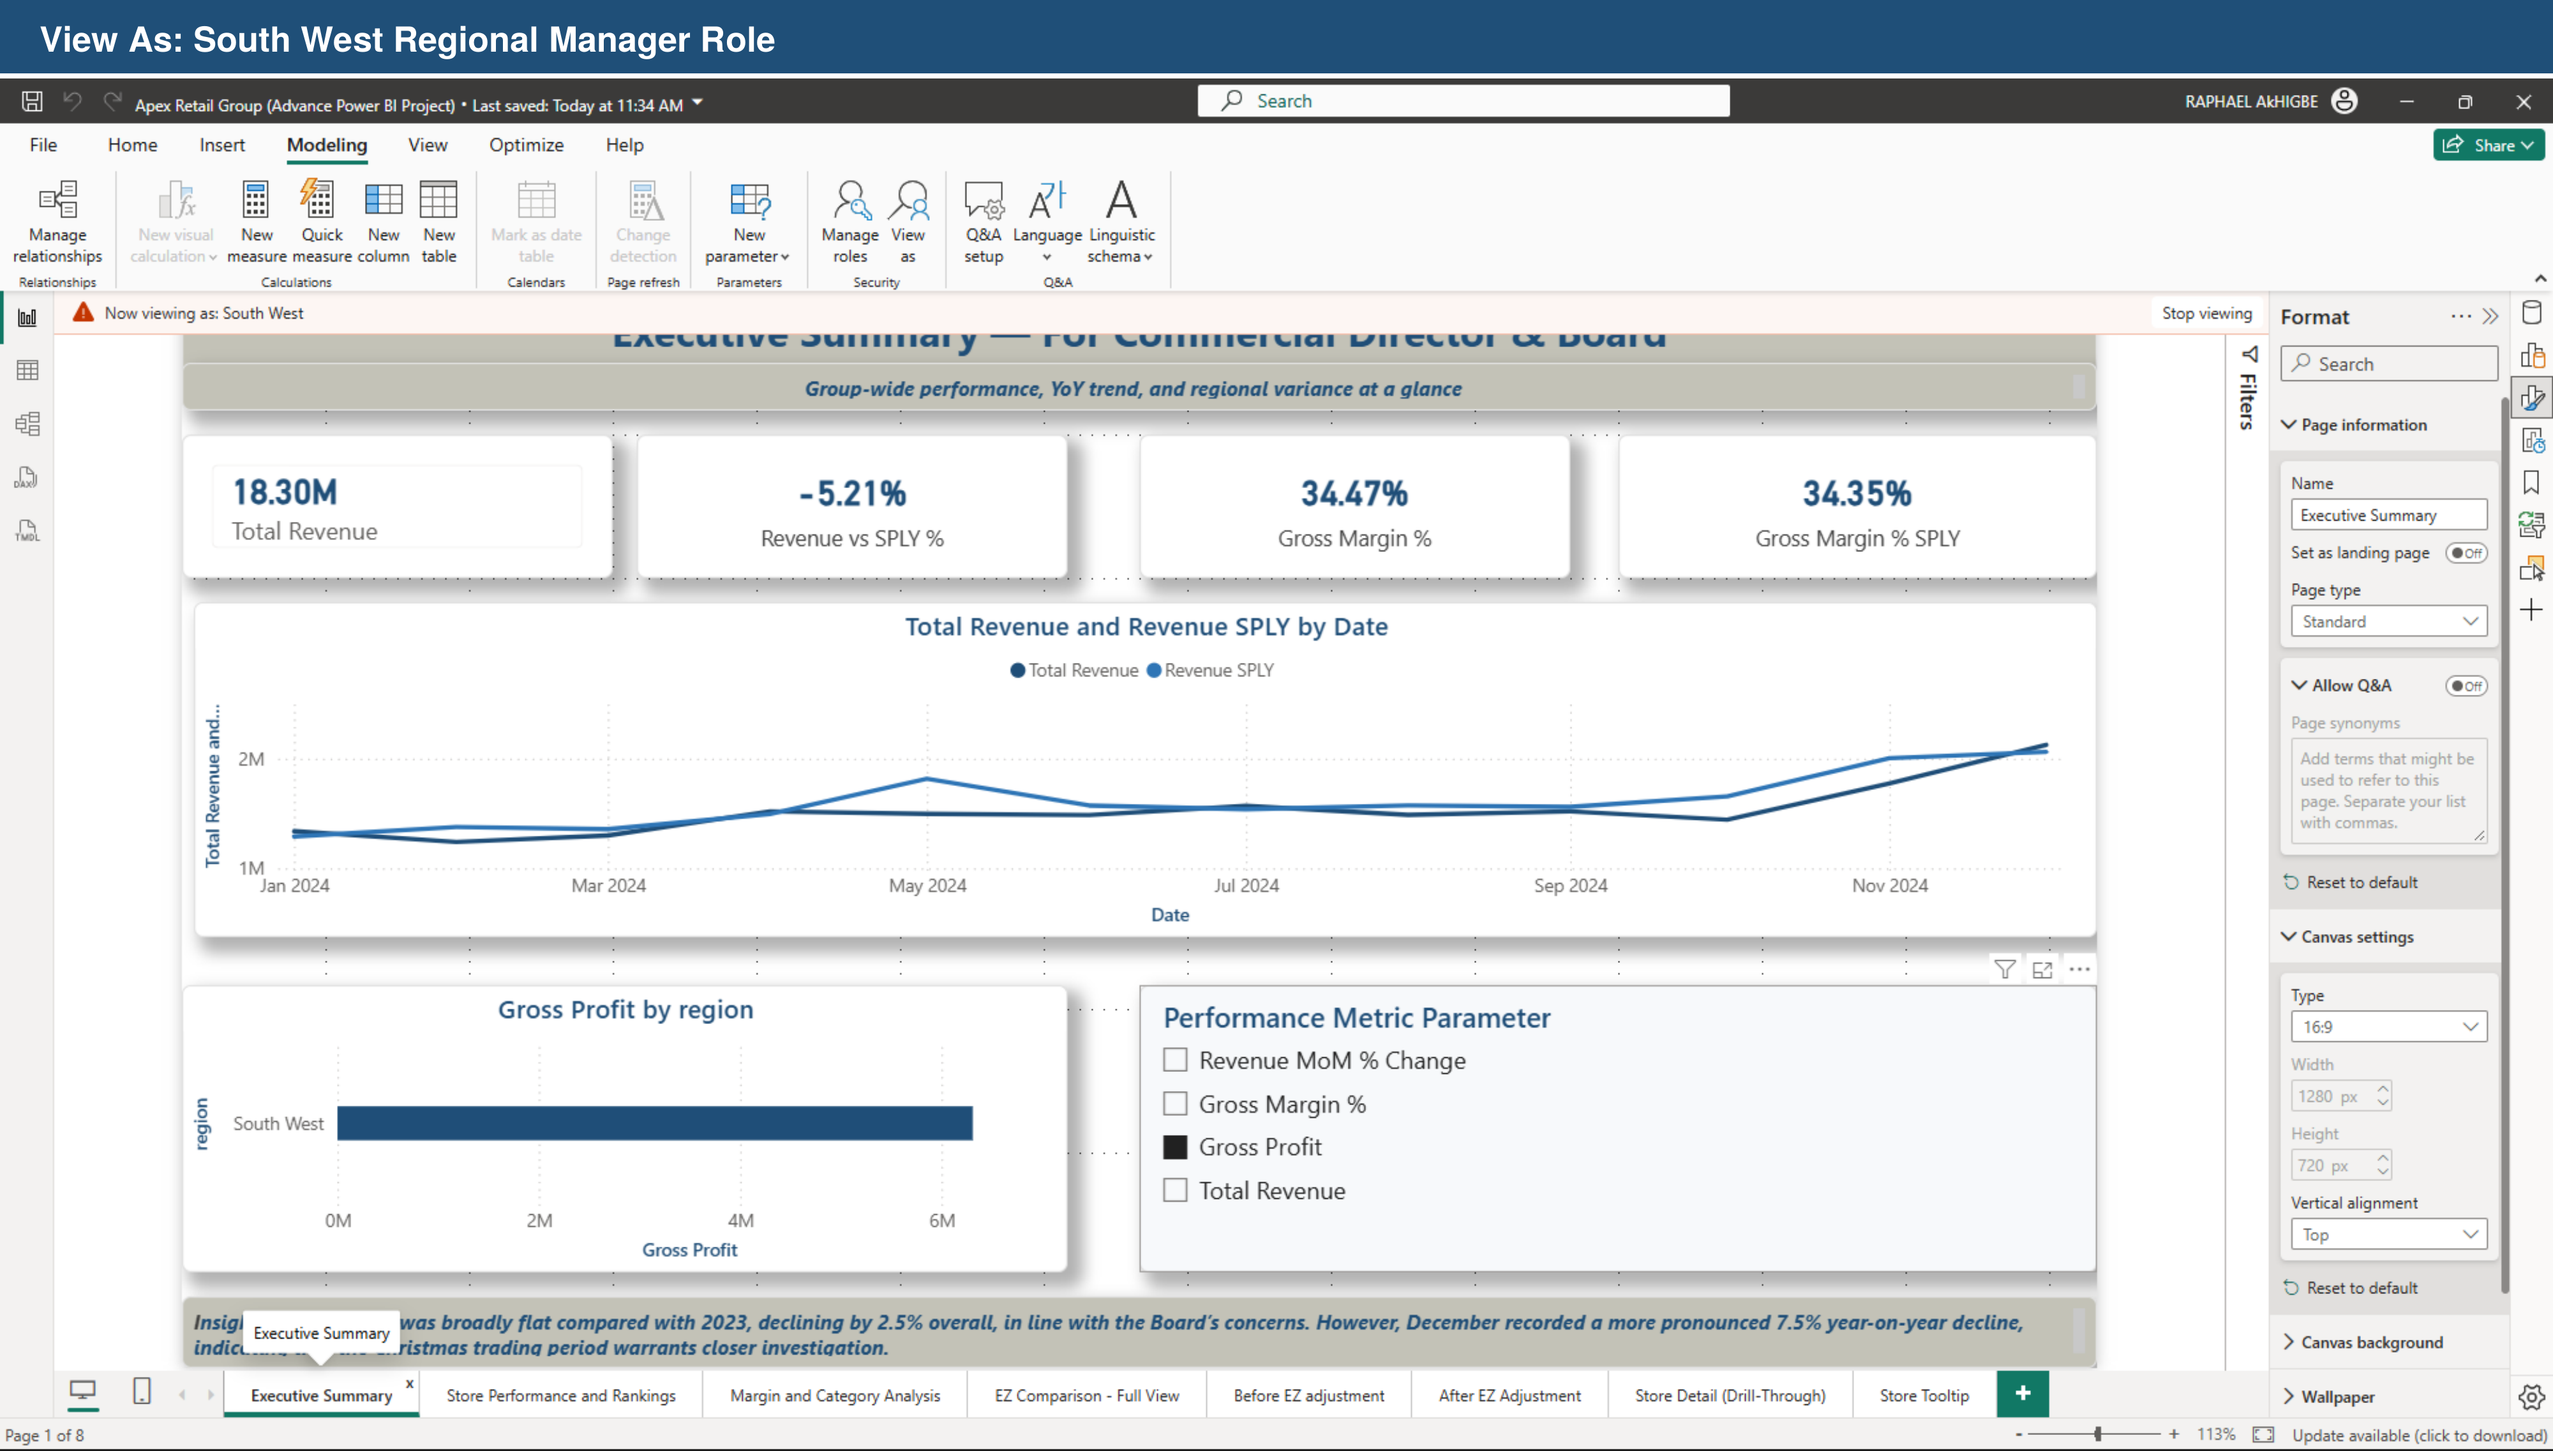

The dashboard page shown, as its layout file describes it:
{"tool":"powerbi","page":{"name":"Executive Summary","canvas":[1280,720],"ordinal":0},"visuals":[{"type":"textbox","box":[0,0,1280,64],"z":0},{"type":"textbox","box":[0,48,1280,32],"z":1000},{"type":"cardVisual","fields":{"Data":["Categories.Total Revenue"]},"box":[0,96,288,96],"z":2000},{"type":"card","fields":{"Values":["Categories.Revenue vs SPLY %"]},"box":[304,96,288,96],"z":3000},{"type":"card","fields":{"Values":["Categories.Gross Margin %"]},"box":[640,96,288,96],"z":4000},{"type":"card","fields":{"Values":["Categories.Gross Margin % SPLY"]},"box":[960,96,320,96],"z":5000},{"type":"lineChart","fields":{"Category":["DateTable.Date"],"Y":["Categories.Total Revenue","Categories.Revenue SPLY"]},"box":[8,208,1272,224],"z":6000},{"type":"clusteredBarChart","fields":{"Y":["Categories.Gross Margin %"],"Category":["Stores.region"]},"box":[0,464,592,192],"z":7000},{"type":"slicer","fields":{"Values":["Performance Metric Parameter.Performance Metric Parameter"]},"box":[640,464,640,192],"z":8000},{"type":"textbox","box":[0,672,1280,48],"z":9000}]}

Visuals, with their boxes on the page's 1280x720 design canvas (x1, y1, x2, y2). These are canvas units, not pixel positions in the 2553x1456 screenshot, which may show the page scaled, cropped or inside an application window:
textbox: [left=0, top=0, right=1280, bottom=64]
textbox: [left=0, top=48, right=1280, bottom=80]
cardVisual - Categories.Total Revenue: [left=0, top=96, right=288, bottom=192]
card - Categories.Revenue vs SPLY %: [left=304, top=96, right=592, bottom=192]
card - Categories.Gross Margin %: [left=640, top=96, right=928, bottom=192]
card - Categories.Gross Margin % SPLY: [left=960, top=96, right=1280, bottom=192]
lineChart - DateTable.Date x Categories.Total Revenue: [left=8, top=208, right=1280, bottom=432]
clusteredBarChart - Categories.Gross Margin % x Stores.region: [left=0, top=464, right=592, bottom=656]
slicer - Performance Metric Parameter.Performance Metric Parameter: [left=640, top=464, right=1280, bottom=656]
textbox: [left=0, top=672, right=1280, bottom=720]
